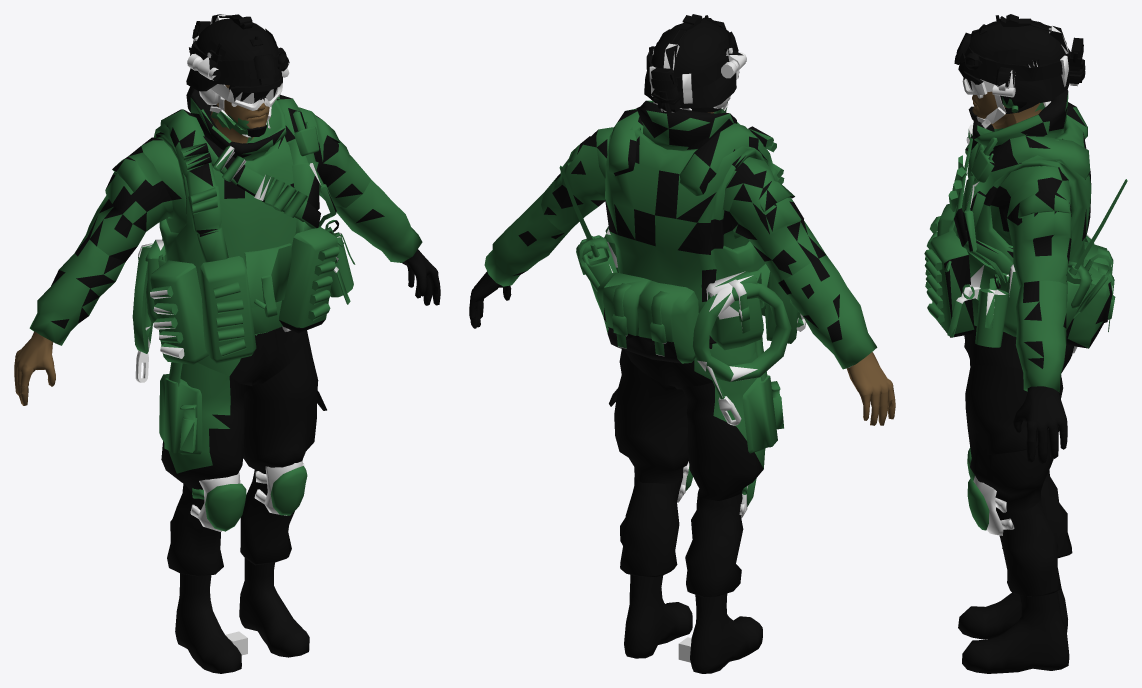
File: MILITAR.glb
The picture shows the model from 3 angles, left to right: view 1: azimuth 30°, elevation 25°; view 2: azimuth 150°, elevation 25°; view 3: azimuth 270°, elevation 25°; orthographic projection.
Visible parts, largest first — view 1: Soliter; view 2: Soliter; view 3: Soliter.
Boxes of the visible parts, x1,y1,x2,y2 form: Soliter: [14, 14, 440, 673]; Soliter: [469, 14, 895, 673]; Soliter: [924, 14, 1127, 673].
Bounding box in the file's own units: 54.57 × 79.35 × 22.83.
